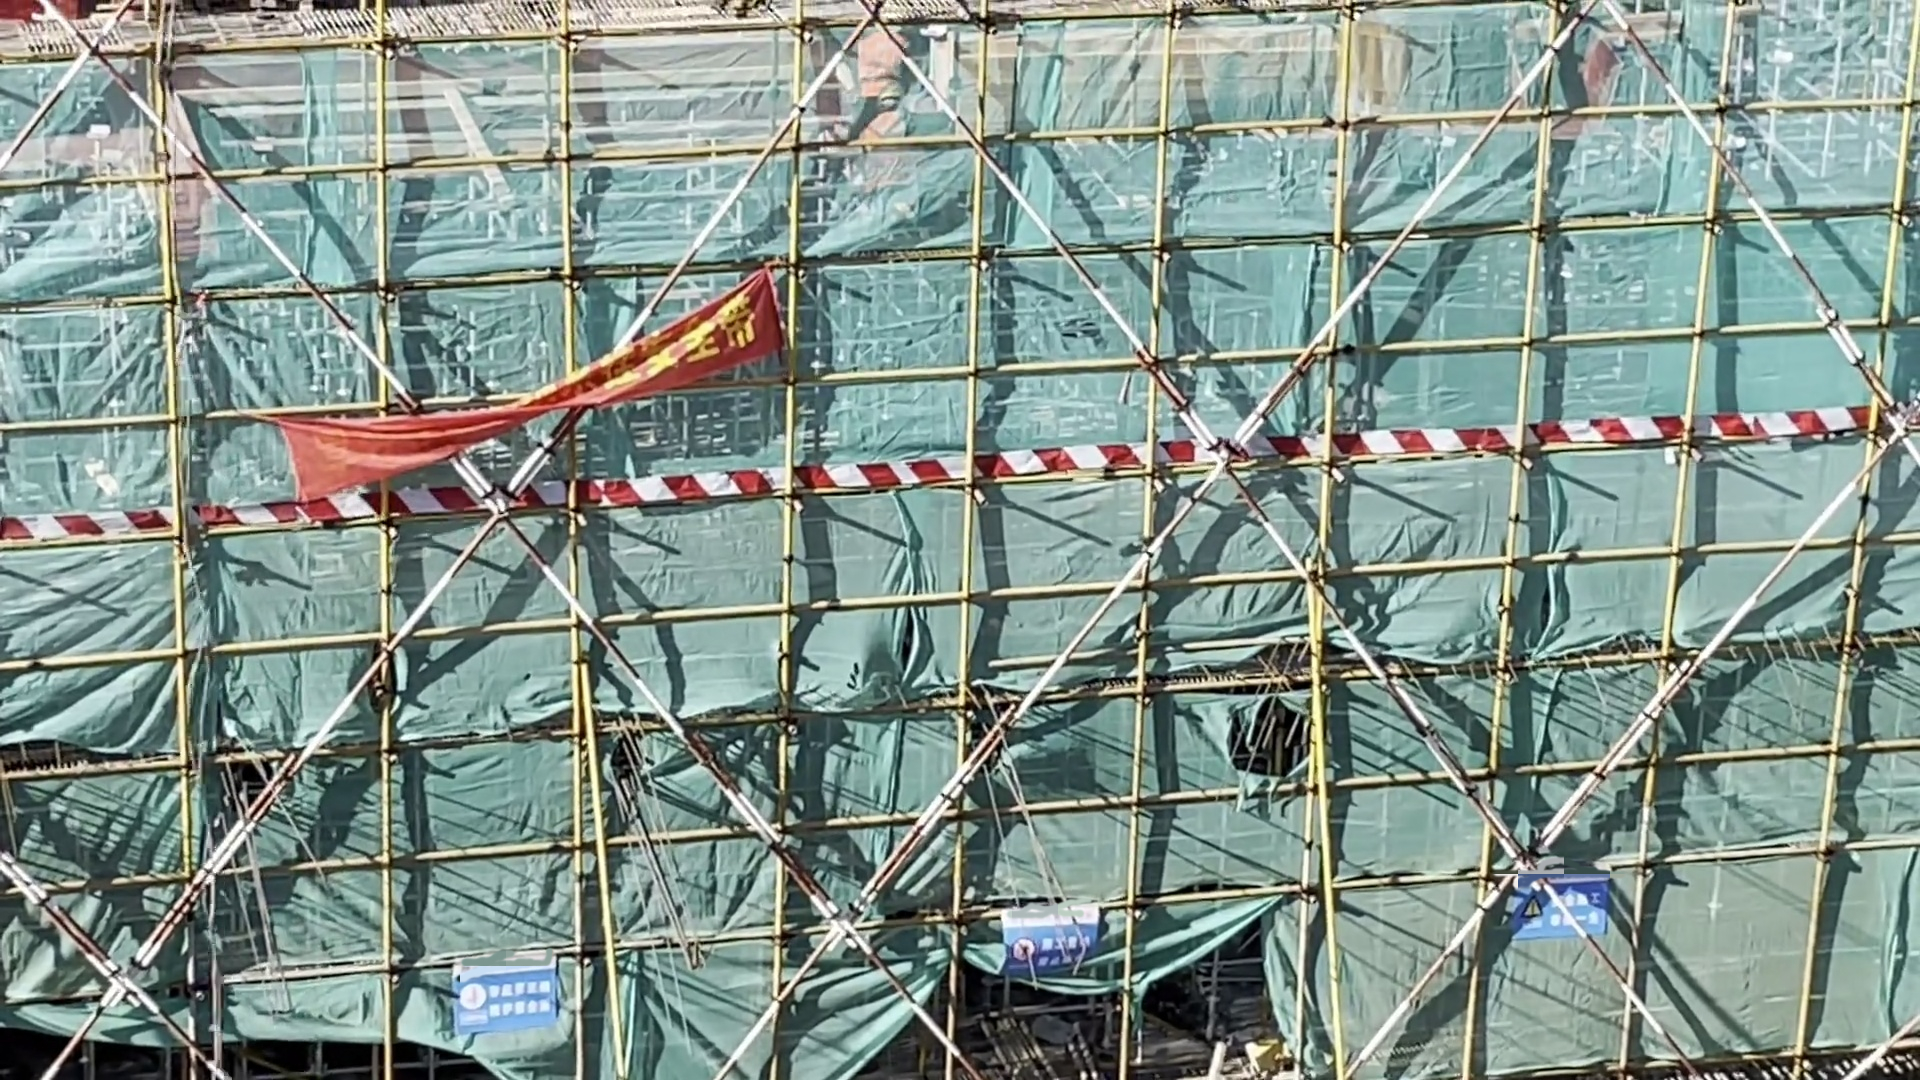slogan: (260, 266, 793, 512)
